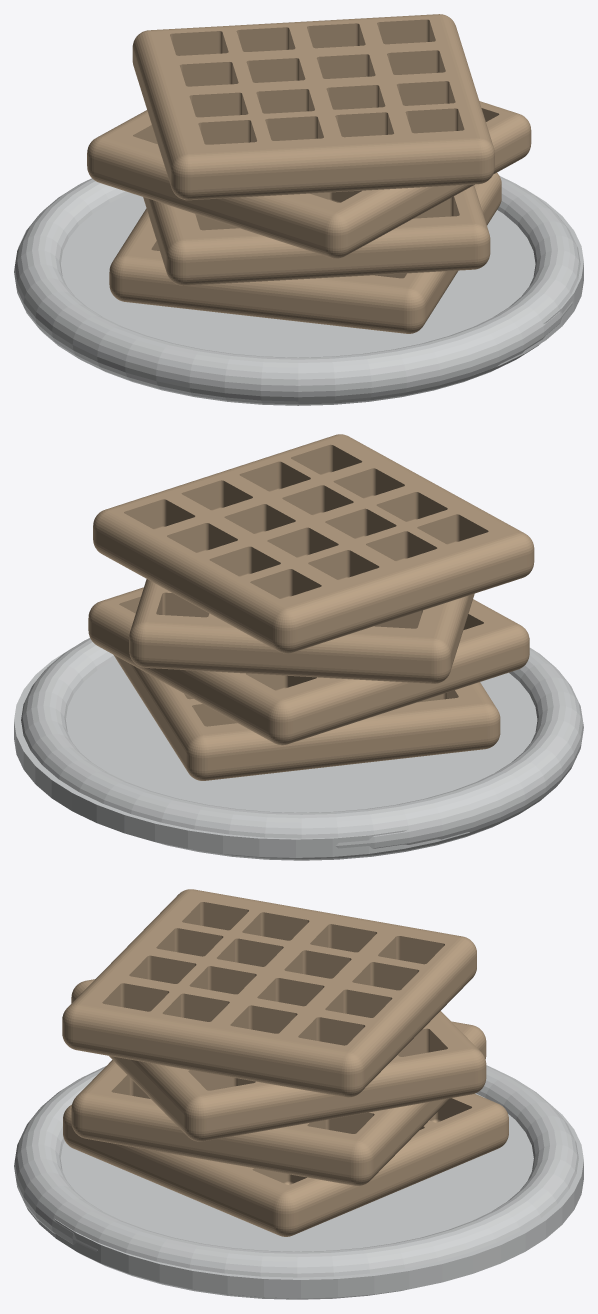
Rendered from Naiah B - Waffles.glb.
3 renders of one model, top to bottom at view 1: azimuth 30°, elevation 25°; view 2: azimuth 150°, elevation 25°; view 3: azimuth 270°, elevation 25°, orthographic.
Visible parts, largest first — view 1: Mesh_Mesh_head_geo.001_lambert2SG.001; view 2: Mesh_Mesh_head_geo.001_lambert2SG.001; view 3: Mesh_Mesh_head_geo.001_lambert2SG.001.
Boxes of the visible parts, x1,y1,x2,y2 form: Mesh_Mesh_head_geo.001_lambert2SG.001: [14, 14, 583, 405]; Mesh_Mesh_head_geo.001_lambert2SG.001: [14, 434, 583, 860]; Mesh_Mesh_head_geo.001_lambert2SG.001: [14, 889, 583, 1299].
Size of the model in its own units: 0.103 by 0.0434 by 0.1029.
